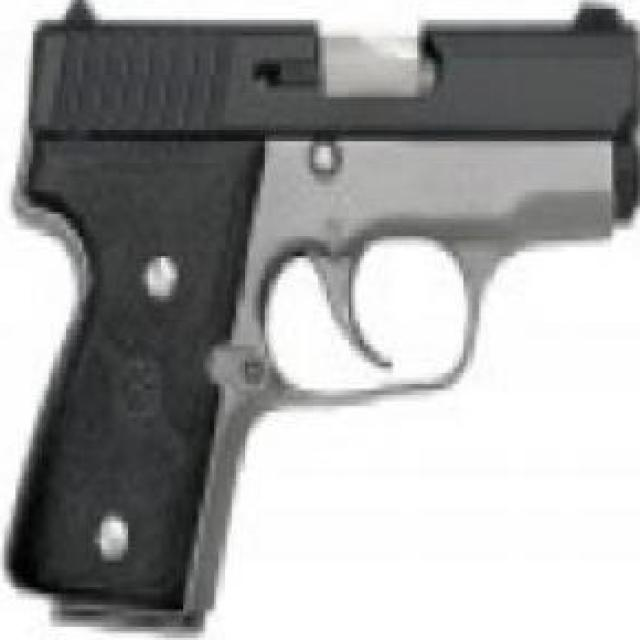pistol: (24, 0, 640, 627)
